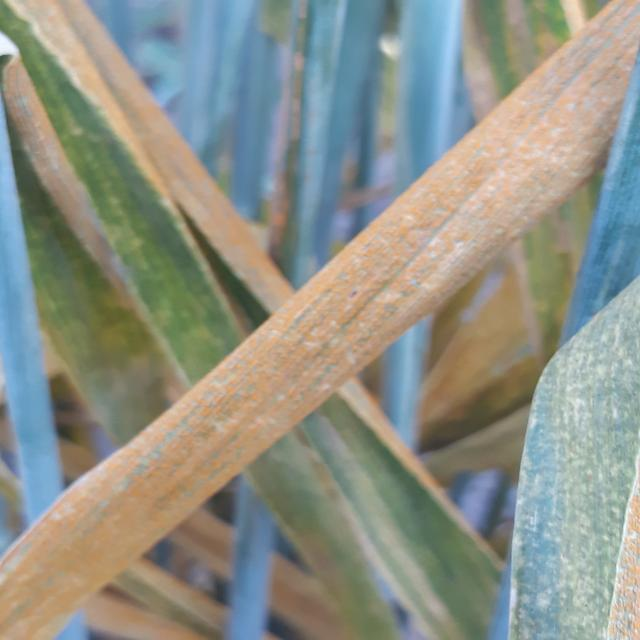yellow_rust: (4, 2, 639, 634)
